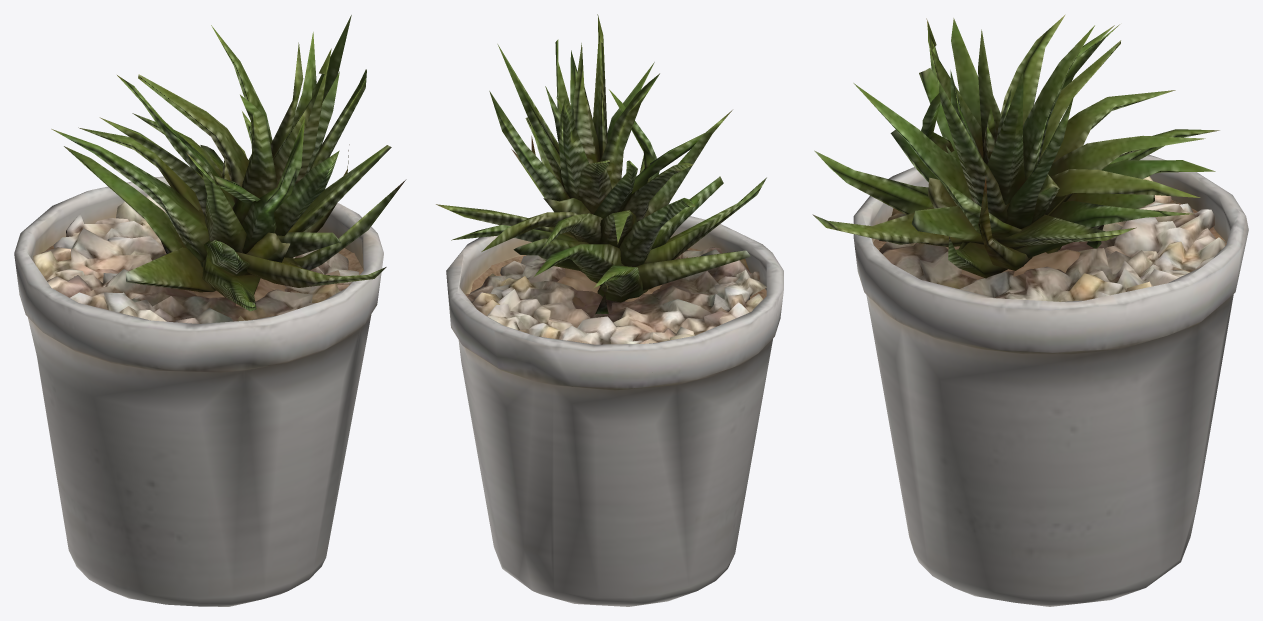
The picture shows the model from 3 angles, left to right: view 1: azimuth 30°, elevation 25°; view 2: azimuth 150°, elevation 25°; view 3: azimuth 270°, elevation 25°; orthographic projection. The views are drawn at different scales.
Visible parts, largest first — view 1: potted_plant_04_pot, potted_plant_04_plant, potted_plant_04_ground, potted_plant_04_dirt; view 2: potted_plant_04_pot, potted_plant_04_plant, potted_plant_04_ground, potted_plant_04_dirt; view 3: potted_plant_04_pot, potted_plant_04_plant, potted_plant_04_ground, potted_plant_04_dirt.
Boxes of the visible parts, x1,y1,x2,y2 form: potted_plant_04_pot: (14, 176, 383, 606); potted_plant_04_plant: (51, 15, 406, 311); potted_plant_04_ground: (33, 195, 359, 323); potted_plant_04_dirt: (45, 245, 363, 306); potted_plant_04_pot: (446, 216, 783, 606); potted_plant_04_plant: (436, 14, 766, 314); potted_plant_04_ground: (466, 247, 766, 344); potted_plant_04_dirt: (466, 248, 766, 307); potted_plant_04_pot: (853, 154, 1248, 606); potted_plant_04_plant: (812, 14, 1219, 278); potted_plant_04_ground: (879, 176, 1225, 301); potted_plant_04_dirt: (873, 200, 1226, 295).
Size of the model in its own units: 0.1665 by 0.2671 by 0.1843.
1 material, 1 textured.
